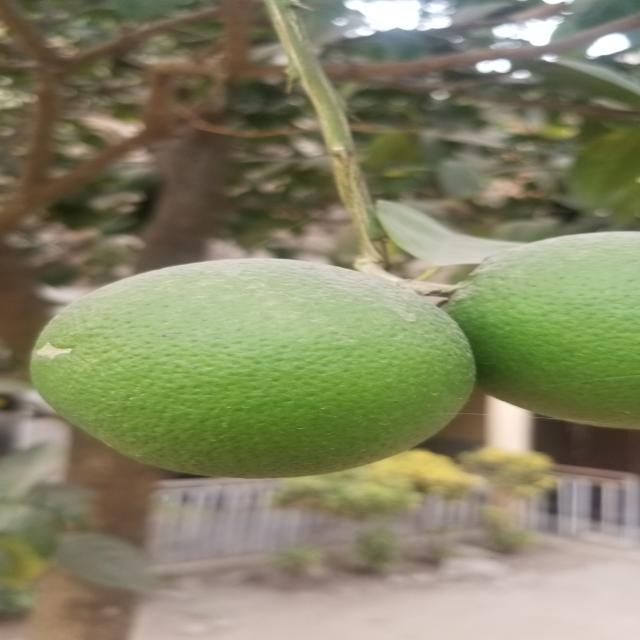agrume: (49, 256, 477, 480), (450, 231, 640, 431)
